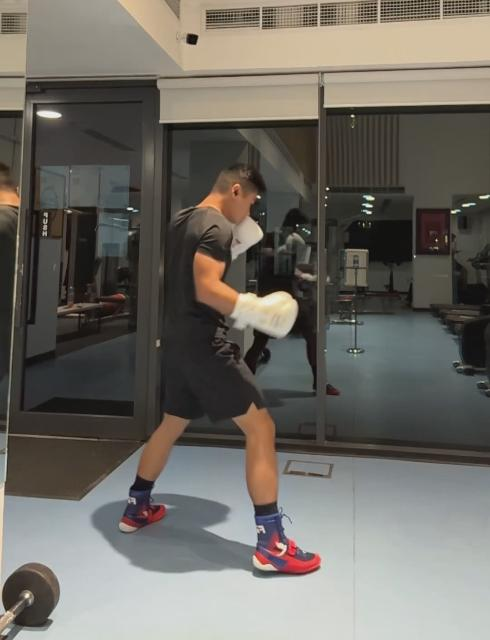punch: (118, 158, 322, 576)
